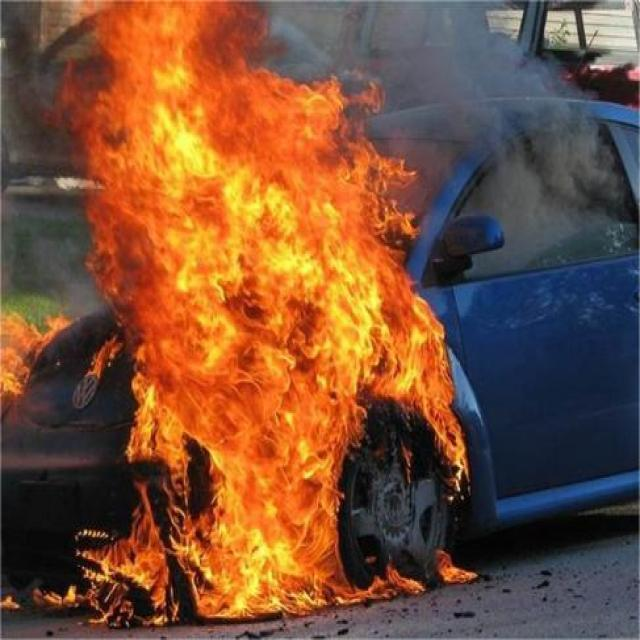Fire: (63, 0, 410, 286), (84, 284, 350, 622), (348, 284, 467, 470), (0, 308, 65, 404), (2, 577, 84, 613), (352, 560, 419, 602), (433, 546, 477, 586)
Smoke: (412, 0, 620, 202)
